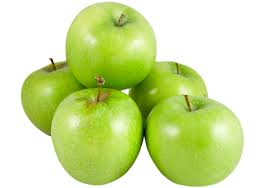apple: (149, 95, 247, 187), (53, 96, 141, 186), (68, 2, 153, 89), (134, 60, 219, 129), (21, 55, 93, 135)
